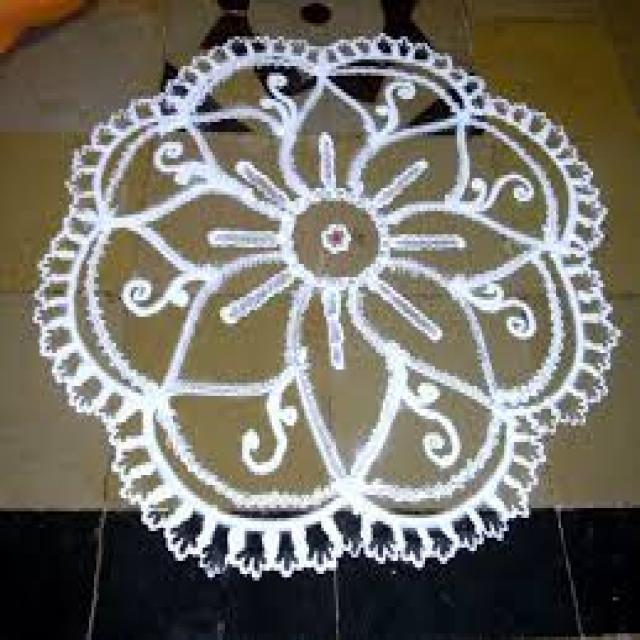rangoli: (26, 22, 624, 573)
